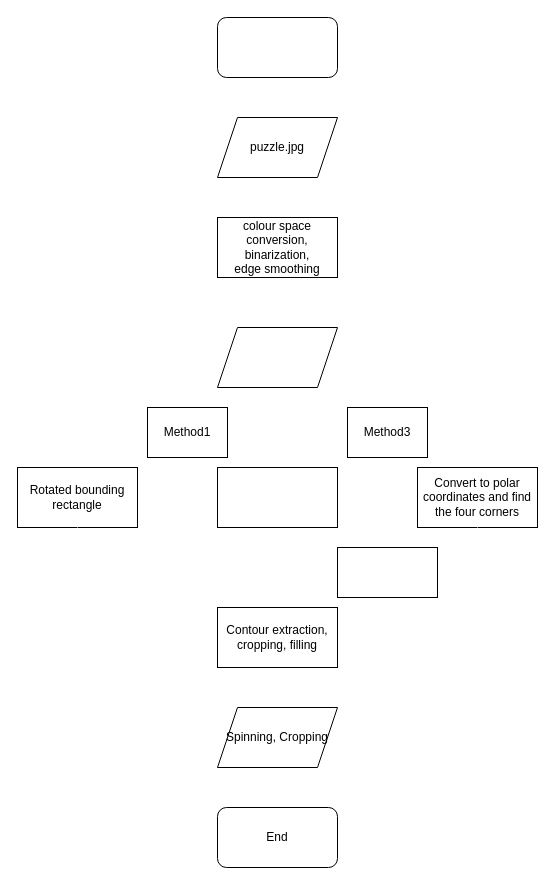
The diagram is 555 pixels wide and 885 high, and some of its shapes have lost their labels. Each missing label, with the centre of its shape:
Extract Pieces: point (277, 357)
Method2: point (387, 572)
pieces expansion: point (277, 497)
Start: point (277, 47)
